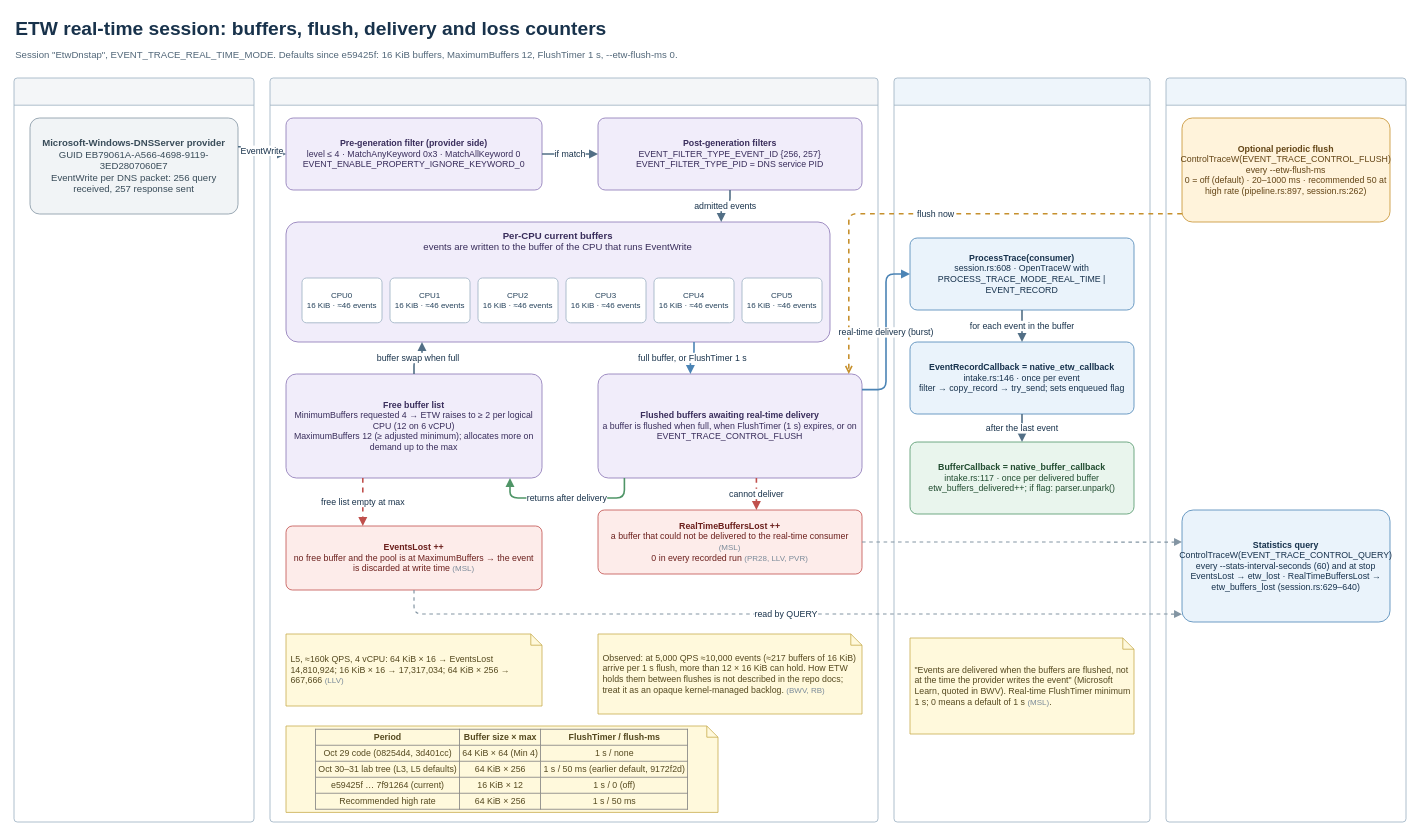
This 1420x836 diagram has some shape labels left out. Here are the shapes that lost their labels. From the top down, the box of each, then its label:
(13, 77, 254, 822): DNS Server process (dns.exe) — user mode
(269, 77, 878, 822): Kernel — ETW session EtwDnstap
(893, 77, 1150, 822): etw-dnstap — thread etw-consumer
(1165, 77, 1406, 822): etw-dnstap — supervisor thread
